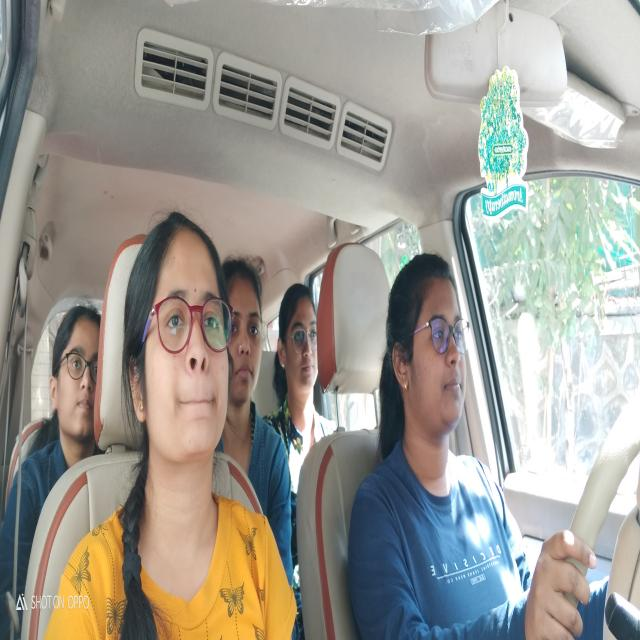person: (126, 198, 237, 476), (374, 250, 482, 455), (48, 278, 101, 461), (222, 237, 268, 426), (277, 275, 323, 440)
